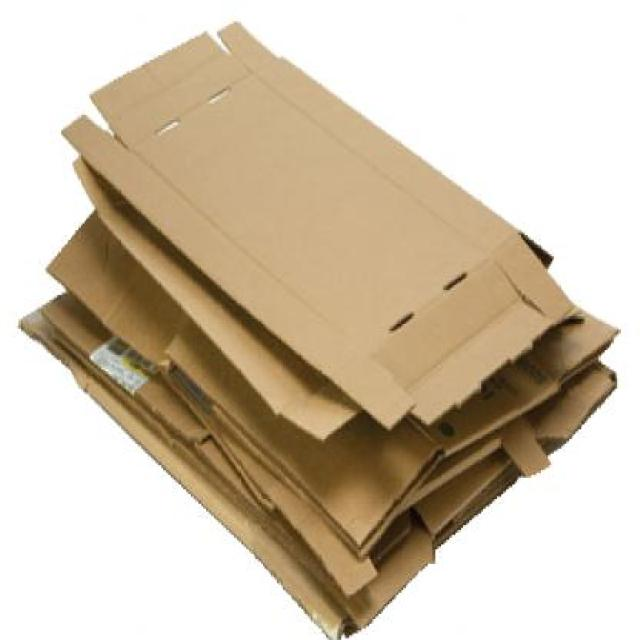box: (15, 11, 620, 640)
